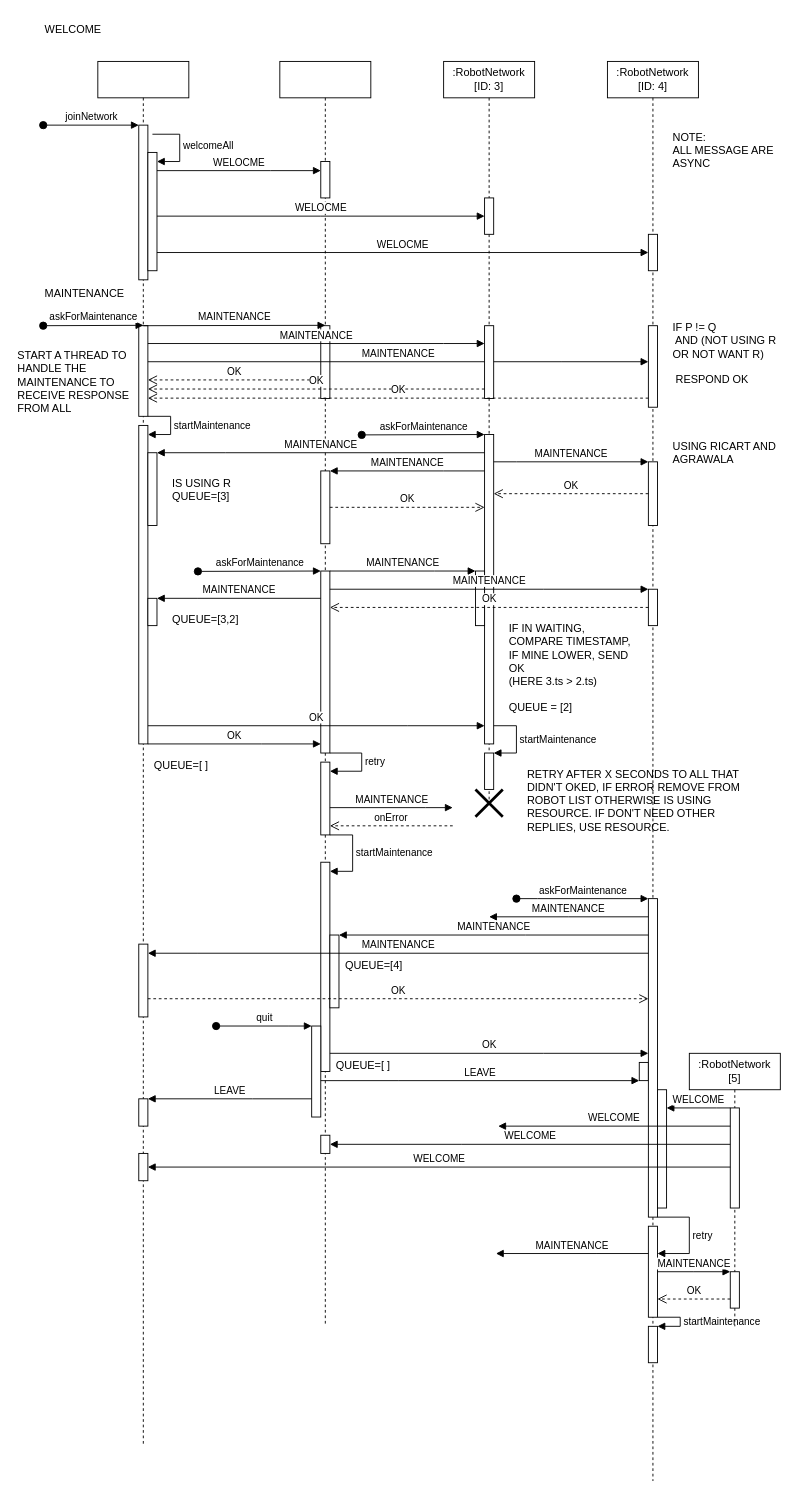
The diagram is 796 pixels wide and 1497 high, and some of its shapes have lost their labels. Each missing label, with the centre of its shape:
:RobotNetwork [ID: 1]: the point at 143,753
:RobotNetwork [ID: 2]: the point at 325,693
